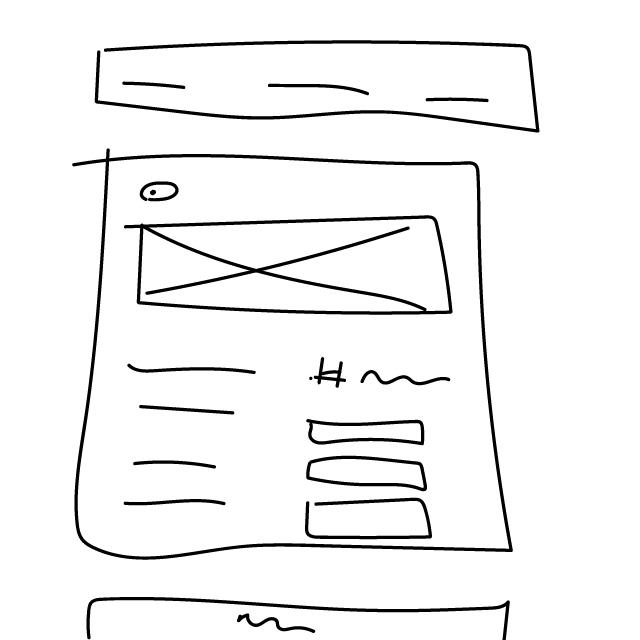checkbox: (141, 180, 181, 207)
container: (66, 138, 529, 562)
footer: (79, 589, 514, 640)
frame: (123, 213, 456, 323)
heading: (307, 354, 453, 397)
input: (302, 495, 439, 542), (304, 454, 432, 493), (306, 414, 429, 448)
nav: (89, 41, 548, 136)
text: (115, 357, 264, 513)
